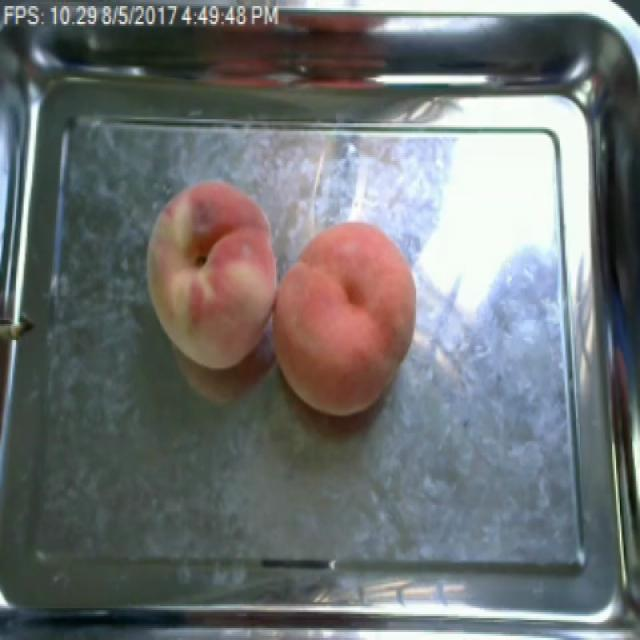Fruit: (264, 211, 427, 425), (138, 173, 286, 376)
